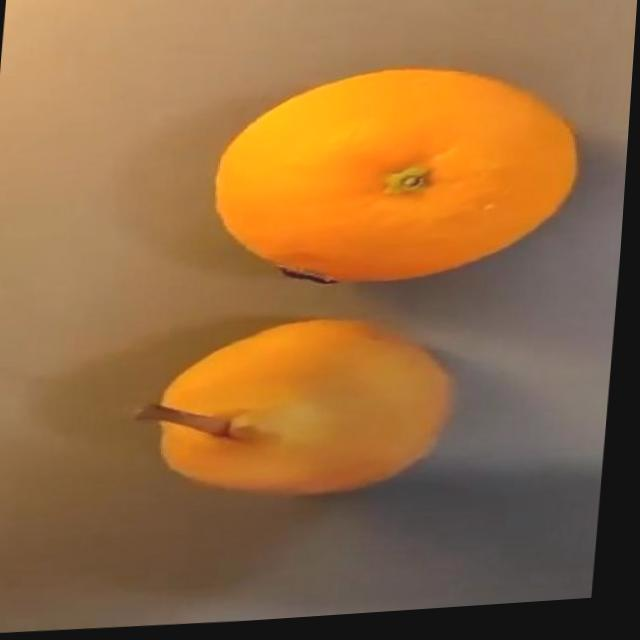Orange: (210, 60, 590, 302)
